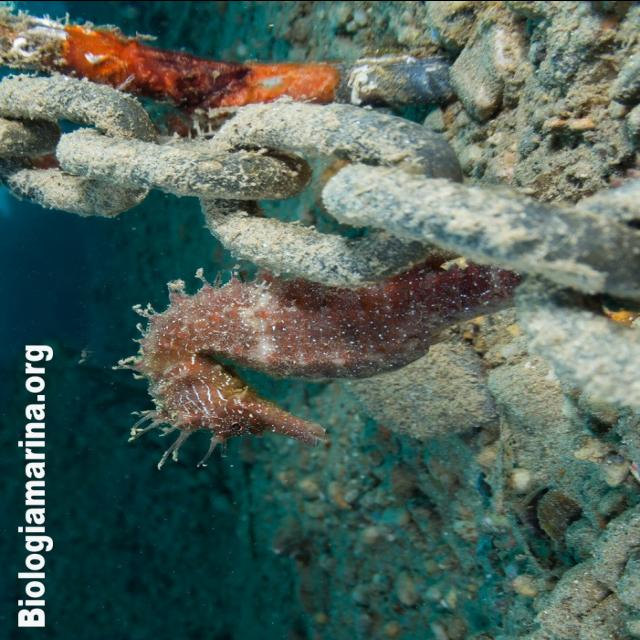Guttu: (141, 360, 335, 449)
